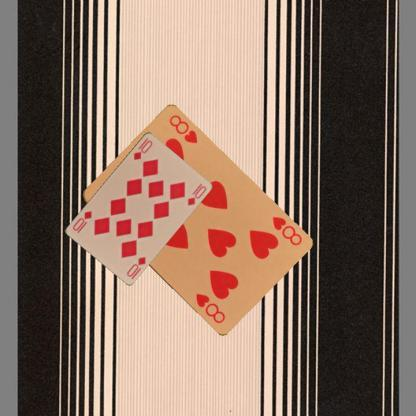10d: (130, 135, 154, 161), (124, 254, 146, 278)
8h: (268, 214, 302, 247)
